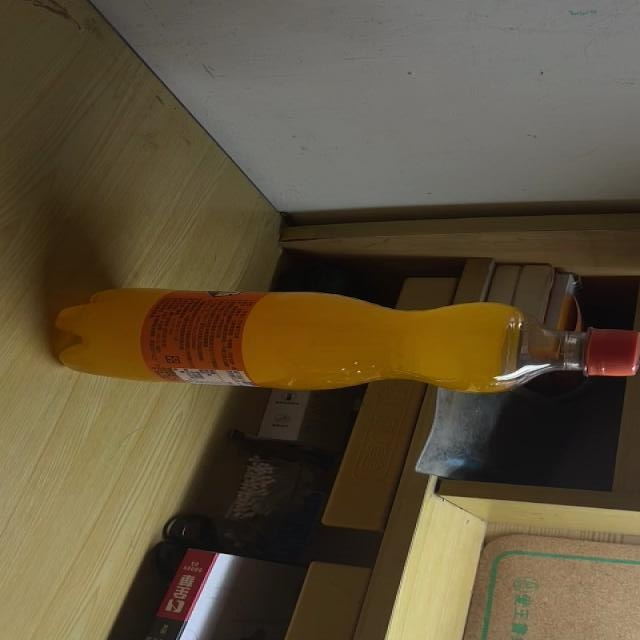Fanta: (52, 288, 640, 394)
